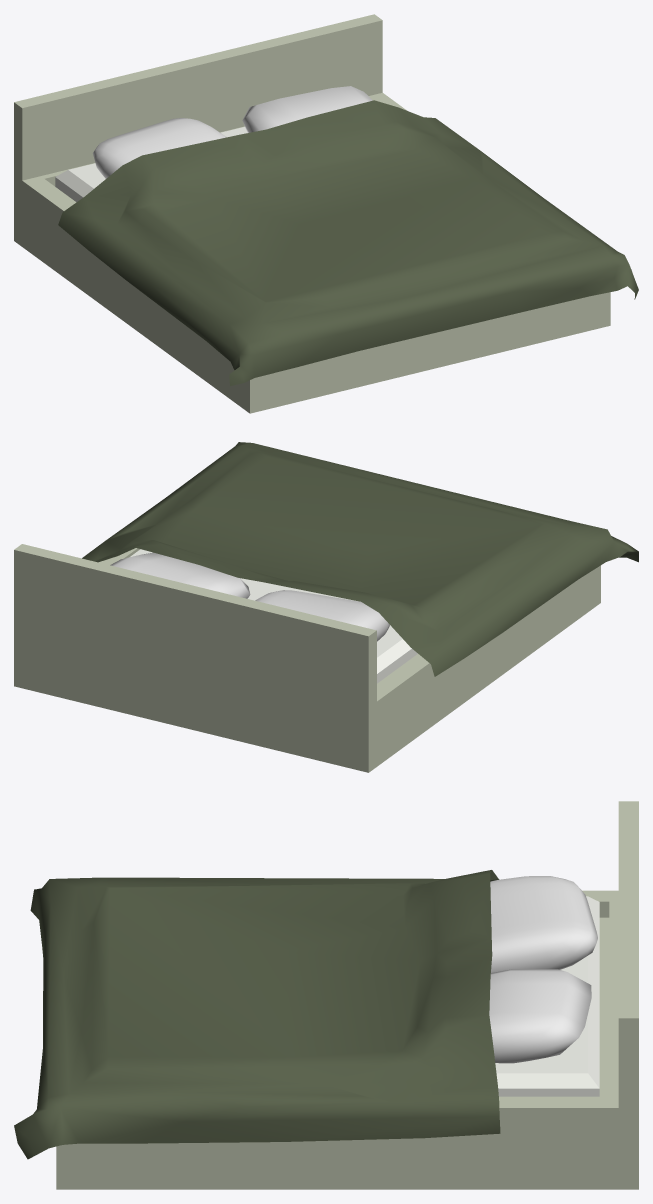
Rendered from bett.glb.
The picture shows the model from 3 angles, top to bottom: view 1: azimuth 30°, elevation 25°; view 2: azimuth 150°, elevation 25°; view 3: azimuth 270°, elevation 25°; orthographic projection. The views are drawn at different scales.
Parts seen in each view (by area): view 1: Bed; view 2: Bed; view 3: Bed.
Boxes of the visible parts, x1,y1,x2,y2 form: Bed: [14, 14, 638, 413]; Bed: [14, 442, 638, 772]; Bed: [14, 801, 638, 1189].
Bounding box in the file's own units: 1.61 × 0.515 × 1.7.
